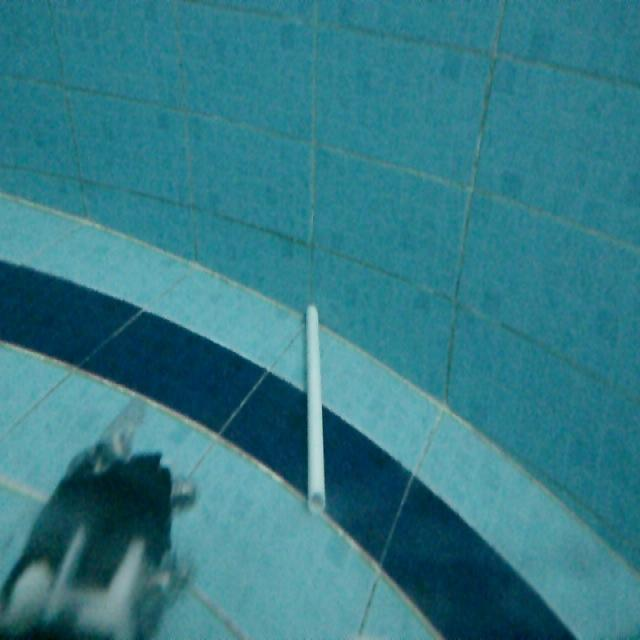Cube: (301, 298, 329, 514)
